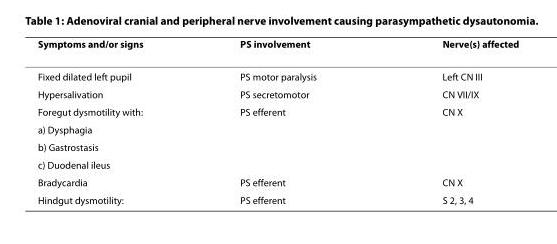table: (36, 36, 518, 205)
table column: (190, 36, 378, 205), (36, 36, 190, 205), (378, 36, 518, 205)
table column header: (36, 36, 518, 59)
table projected row header: (36, 137, 518, 155), (36, 155, 518, 173), (36, 120, 518, 137)
table row: (36, 59, 518, 84), (36, 36, 518, 59), (36, 84, 518, 102), (36, 102, 518, 120), (36, 137, 518, 155), (36, 155, 518, 173), (36, 120, 518, 137), (36, 173, 518, 190), (36, 190, 518, 205)
